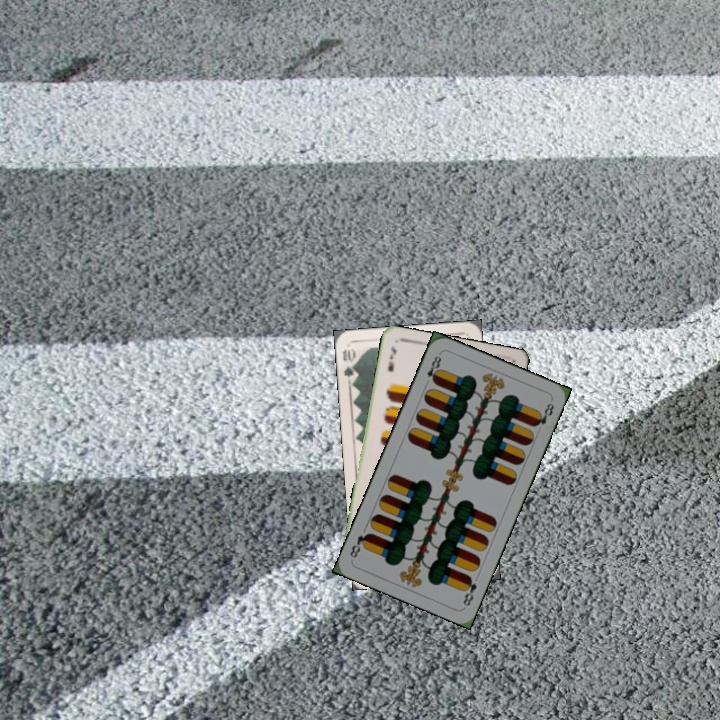E7: (384, 342, 399, 374)
E8: (421, 350, 444, 388), (459, 572, 480, 609)
G10: (339, 345, 360, 385)
